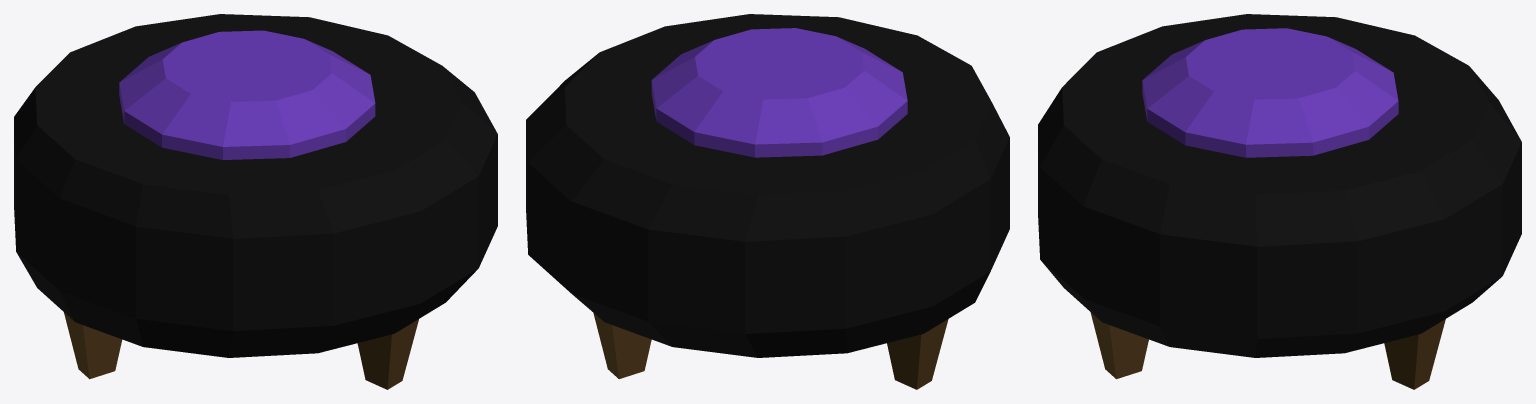
The model's file is tyreseat.fbx.
3 renders of one model, left to right at view 1: azimuth 30°, elevation 25°; view 2: azimuth 150°, elevation 25°; view 3: azimuth 270°, elevation 25°, orthographic.
Visible parts, largest first — view 1: tyre seat2, Cylinder009; view 2: tyre seat2, Cylinder009; view 3: tyre seat2, Cylinder009.
Part boxes in pixels (<box>): tyre seat2: <box>14,14,497,389</box>; Cylinder009: <box>119,30,375,159</box>; tyre seat2: <box>526,14,1009,389</box>; Cylinder009: <box>651,28,907,157</box>; tyre seat2: <box>1038,14,1521,389</box>; Cylinder009: <box>1142,28,1398,157</box>.
Size of the model in its own units: 67.54 by 42.56 by 67.31.
